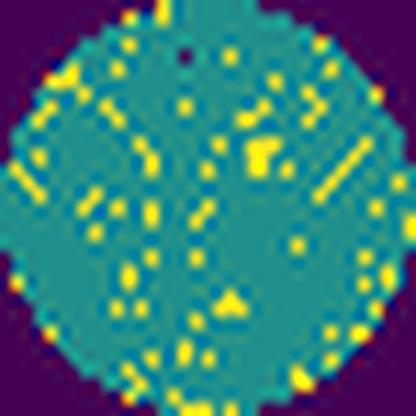Loc: (242, 136, 281, 180)
